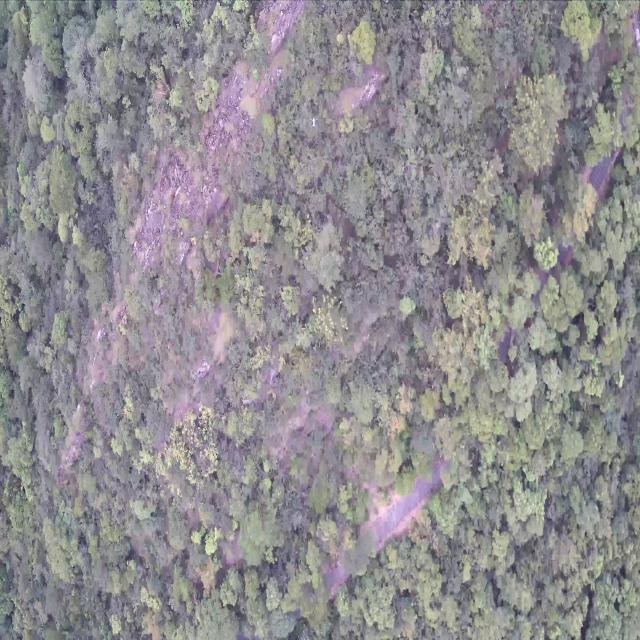drone: (310, 117, 317, 128)
